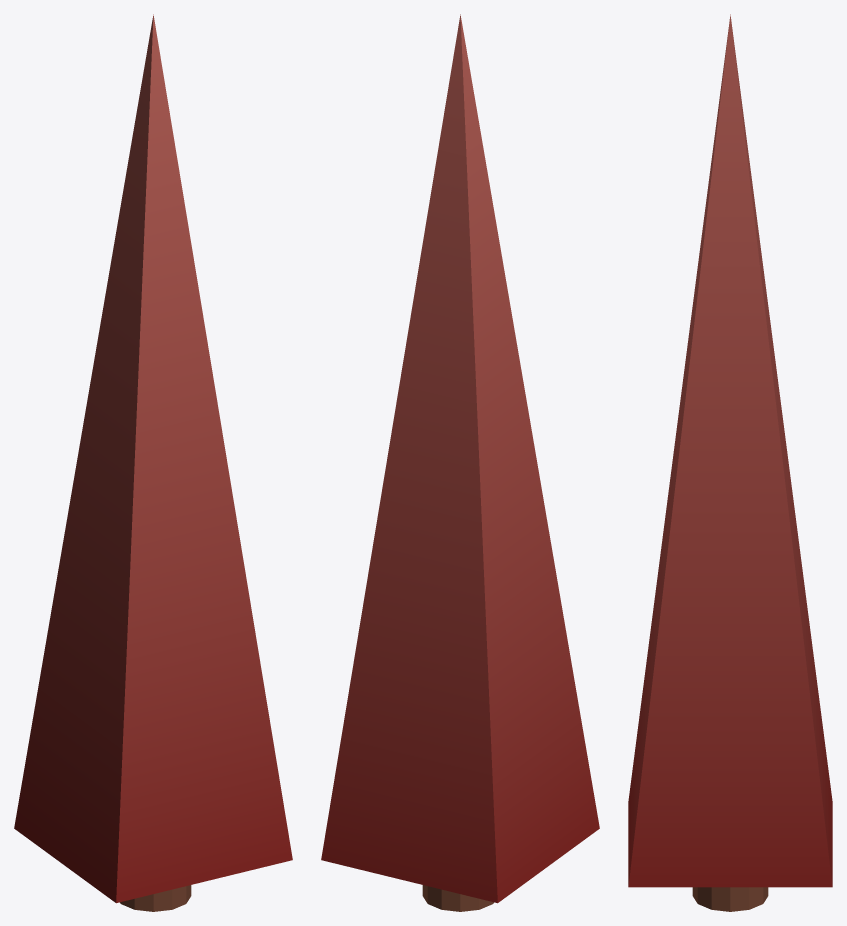
The model's file is Tree_19_gradient_red_vc.fbx.
3 renders of one model, left to right at view 1: azimuth 30°, elevation 25°; view 2: azimuth 150°, elevation 25°; view 3: azimuth 270°, elevation 25°, orthographic.
Visible parts, largest first — view 1: Tree_19_gradient_red_vc; view 2: Tree_19_gradient_red_vc; view 3: Tree_19_gradient_red_vc.
Boxes of the visible parts, left/top/right/bottom form: Tree_19_gradient_red_vc: left=14, top=14, right=292, bottom=911; Tree_19_gradient_red_vc: left=321, top=14, right=599, bottom=911; Tree_19_gradient_red_vc: left=628, top=14, right=832, bottom=911.
Bounding box in the file's own units: 59.69 × 285 × 59.69.
